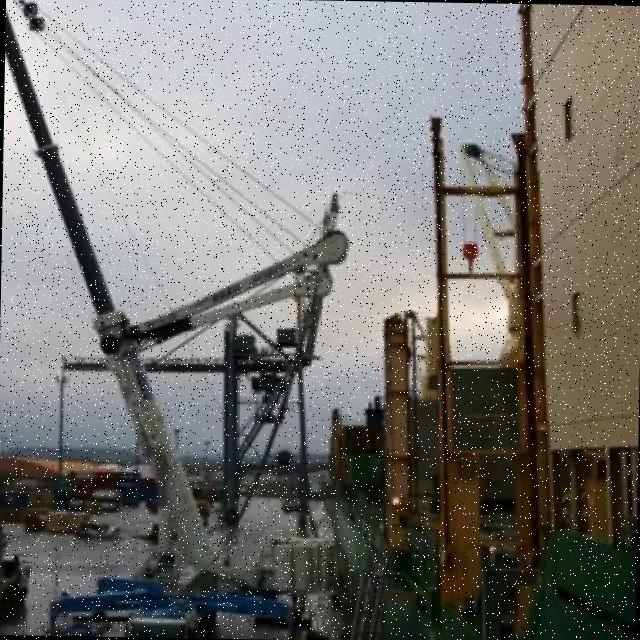Mobile Crane: (0, 0, 348, 640)
